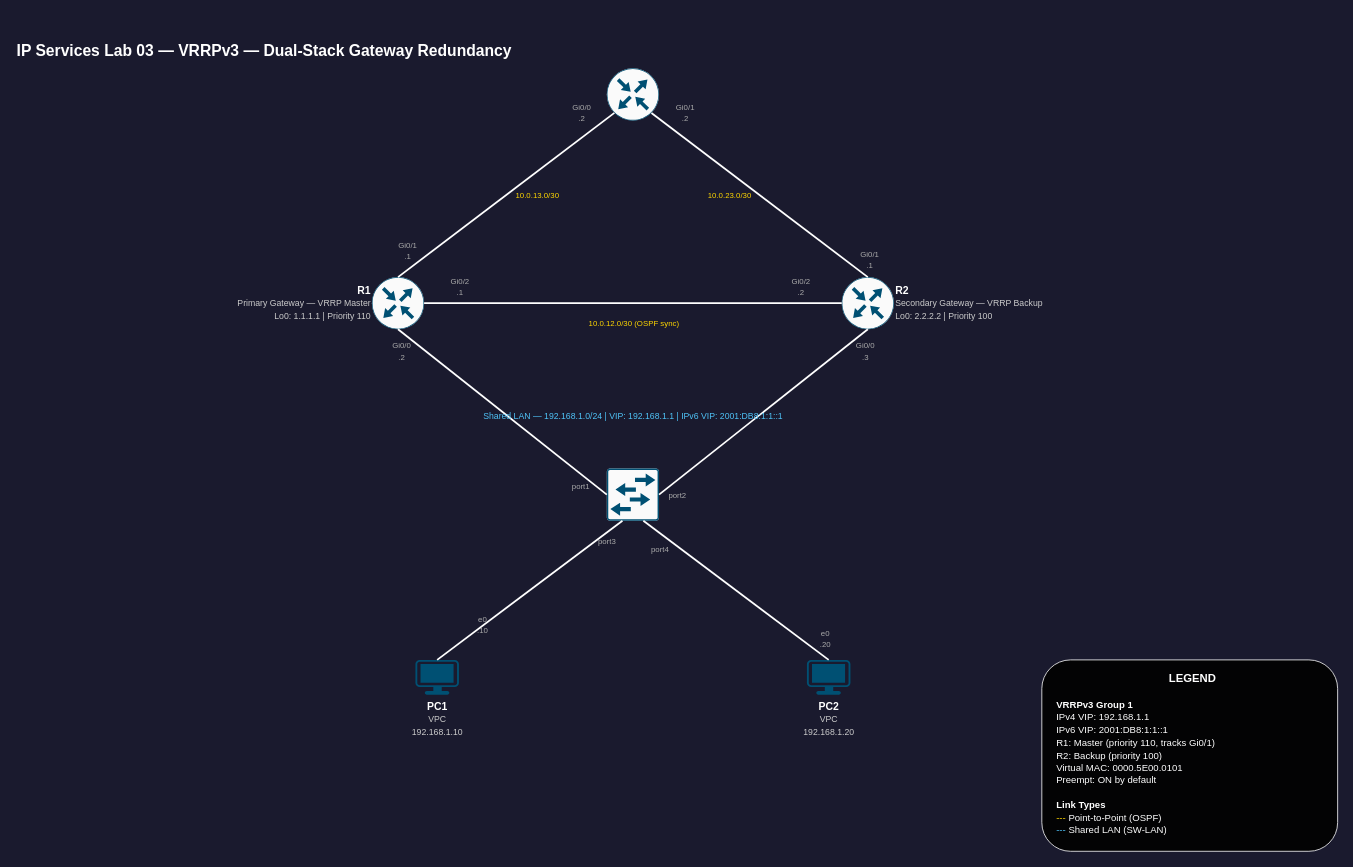
Some shapes in this 1353 by 867 pixel diagram are drawn without their labels. The box of each missing label's shape, as (x1, y1, x2, y2) in pixels:
R3 Upstream / ISP Router Lo0: 3.3.3.3 Lo1: 203.0.113.1/24: (606, 67, 659, 120)
SW-LAN Unmanaged Switch 192.168.1.0/24: (606, 468, 659, 521)
